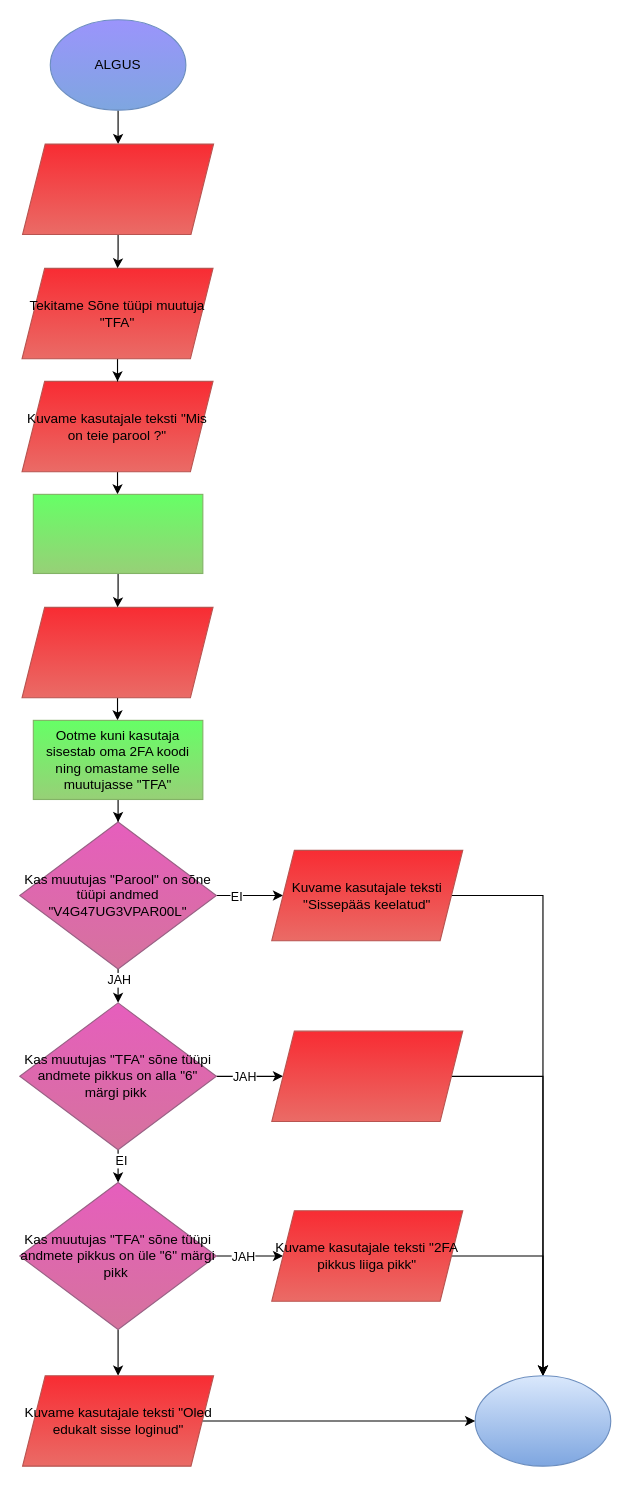
Image size: 631x1486. Some labels were removed from this diagram. Here are the shapes that lost their labels. From the top down, the box of each, then its label:
(21, 143, 214, 234): Tekitame Sõne tüüpi muutuja "Parool"
(32, 493, 203, 573): Ootme kuni kasutaja sisestab oma parooli ning omastame selle muutujasse "Parool"
(21, 606, 213, 698): Kuvame kasutajale teksti "Mis on teie 2FA kood ?"
(271, 1030, 463, 1122): Kuvame kasutajale teksti "2FA pikkus on liiga lühike"
(474, 1375, 611, 1466): LÕPP
